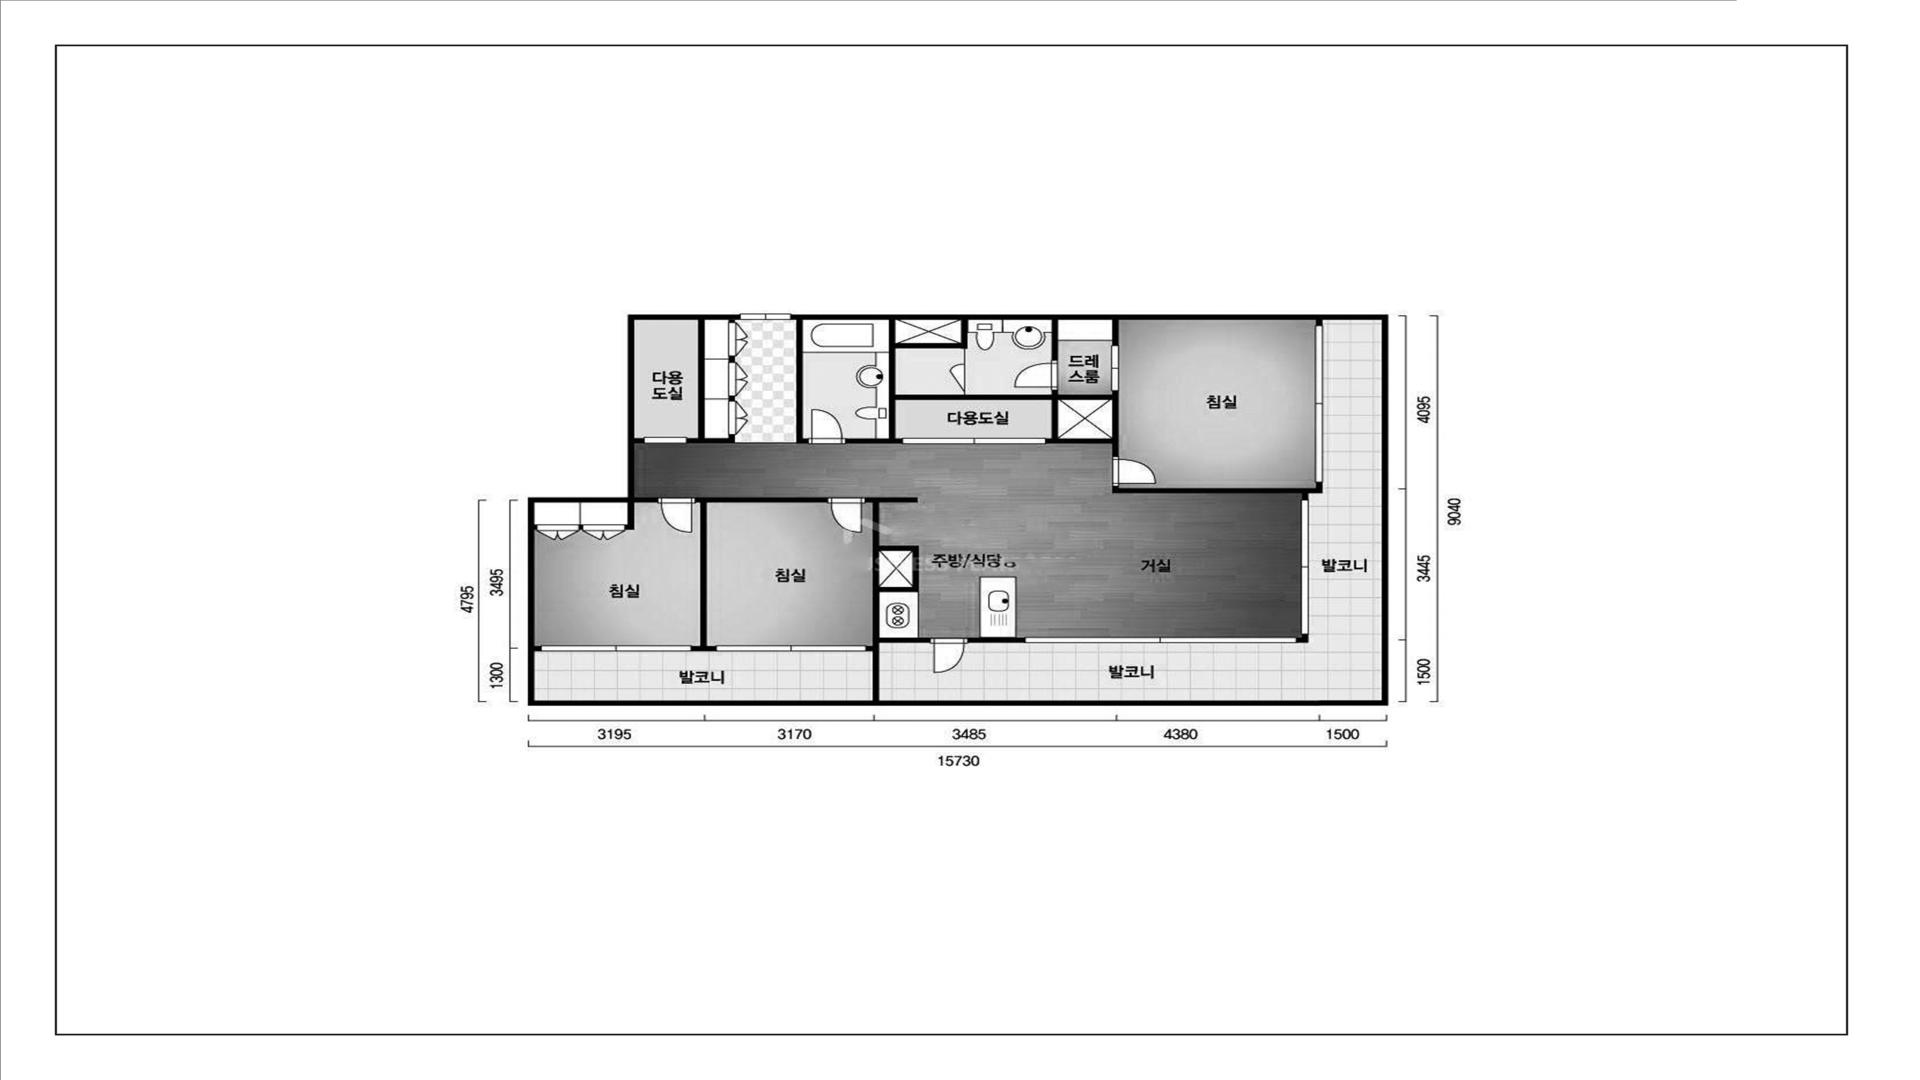background: (0, 0, 1920, 1080)
door: (827, 497, 866, 534), (930, 638, 968, 674), (1112, 456, 1156, 487), (1014, 360, 1058, 390), (658, 497, 695, 533), (808, 409, 845, 444), (902, 438, 1046, 444), (948, 364, 965, 392), (1110, 345, 1118, 390), (644, 436, 687, 443), (740, 314, 791, 319)
wall: (527, 314, 1389, 707), (845, 319, 1118, 456), (691, 497, 828, 651), (865, 497, 930, 700), (687, 319, 735, 443), (1112, 483, 1323, 500), (796, 319, 808, 443), (878, 550, 916, 587), (625, 502, 634, 530), (968, 638, 1025, 642), (1052, 319, 1058, 360), (1113, 319, 1118, 345), (634, 497, 658, 502), (1296, 634, 1308, 642), (634, 438, 645, 443), (534, 646, 542, 651), (729, 356, 735, 363), (1316, 320, 1323, 326), (729, 396, 735, 401), (579, 525, 583, 530), (729, 319, 735, 323), (534, 525, 537, 529)
window: (1025, 637, 1296, 642), (1315, 326, 1323, 483), (1300, 500, 1308, 634), (716, 645, 866, 651), (541, 645, 691, 651)
